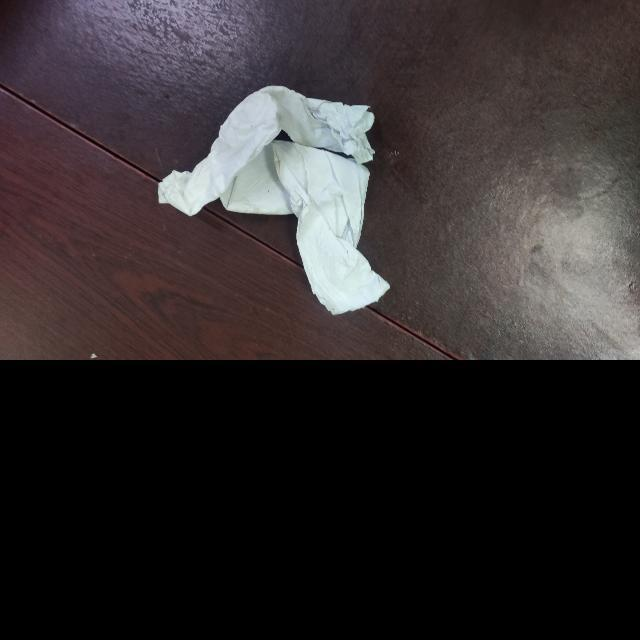kitchen paper: (159, 89, 396, 320)
